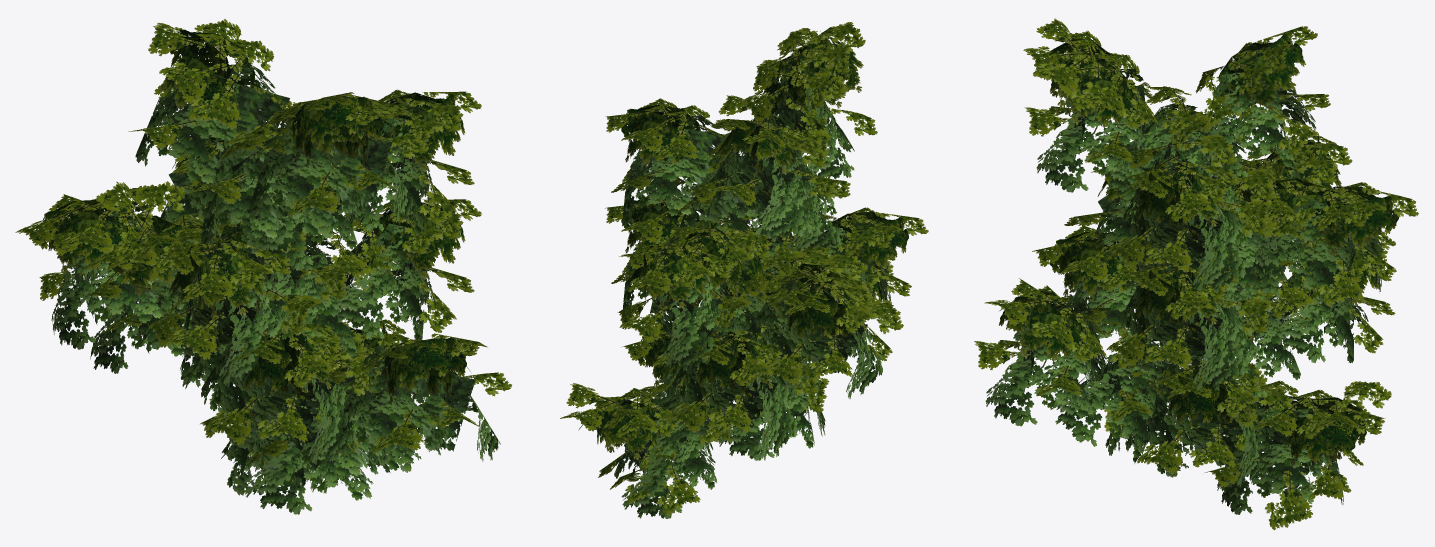
File: tree.glb
3 renders of one model, left to right at view 1: azimuth 30°, elevation 25°; view 2: azimuth 150°, elevation 25°; view 3: azimuth 270°, elevation 25°, orthographic. The views are drawn at different scales.
Parts seen in each view (by area): view 1: Leaves1, Leaves3, Leaves2; view 2: Leaves3, Leaves1, Leaves2; view 3: Leaves1, Leaves3, Leaves2.
Boxes of the visible parts, <box> form: Leaves1: <box>51,63,500,514</box>; Leaves3: <box>15,19,511,465</box>; Leaves2: <box>38,29,470,404</box>; Leaves3: <box>560,22,928,515</box>; Leaves1: <box>614,64,890,518</box>; Leaves2: <box>578,31,908,459</box>; Leaves1: <box>985,54,1381,514</box>; Leaves3: <box>974,18,1418,530</box>; Leaves2: <box>999,32,1398,466</box>.
Size of what is drawn, in the model's own units: 5.9 by 7.2 by 6.49.
3 materials, 3 textured.
